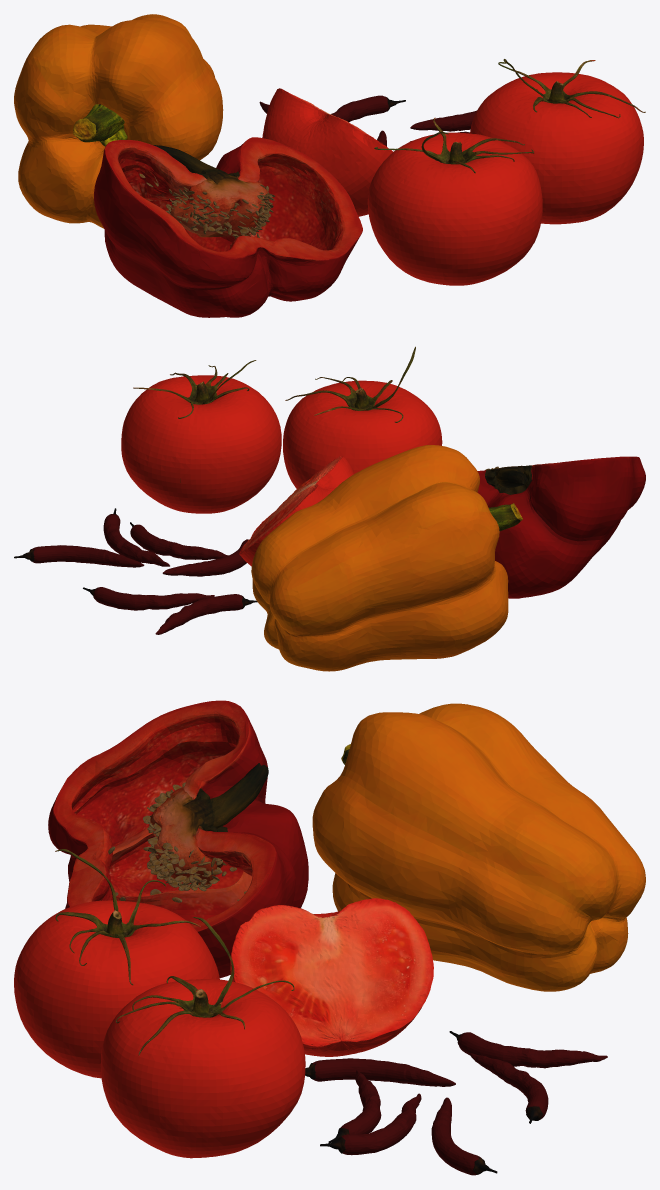
Rendered from vegetables.glb.
The picture shows the model from 3 angles, top to bottom: view 1: azimuth 30°, elevation 25°; view 2: azimuth 150°, elevation 25°; view 3: azimuth 270°, elevation 25°; orthographic projection. The views are drawn at different scales.
Visible parts, largest first — view 1: mesh_0_ROOT__Vegetables__Tomato_Layer0, mesh_3_ROOT__Vegetables__Bell_pepper_Layer0_112_27_16_ds, mesh_4_ROOT__Vegetables__Bell_pepper_Layer0_148_91_2_ds, mesh_2_ROOT__Vegetables__Bell_pepper_Layer0_90_71_45_ds, mesh_1_ROOT__Vegetables__Pepper_Layer0; view 2: mesh_4_ROOT__Vegetables__Bell_pepper_Layer0_148_91_2_ds, mesh_0_ROOT__Vegetables__Tomato_Layer0, mesh_3_ROOT__Vegetables__Bell_pepper_Layer0_112_27_16_ds, mesh_1_ROOT__Vegetables__Pepper_Layer0; view 3: mesh_0_ROOT__Vegetables__Tomato_Layer0, mesh_4_ROOT__Vegetables__Bell_pepper_Layer0_148_91_2_ds, mesh_3_ROOT__Vegetables__Bell_pepper_Layer0_112_27_16_ds, mesh_1_ROOT__Vegetables__Pepper_Layer0, mesh_2_ROOT__Vegetables__Bell_pepper_Layer0_90_71_45_ds.
Part boxes in pixels (x1,y1,x2,y2): mesh_0_ROOT__Vegetables__Tomato_Layer0: [262, 59, 645, 285]; mesh_3_ROOT__Vegetables__Bell_pepper_Layer0_112_27_16_ds: [94, 137, 362, 317]; mesh_4_ROOT__Vegetables__Bell_pepper_Layer0_148_91_2_ds: [14, 14, 223, 228]; mesh_2_ROOT__Vegetables__Bell_pepper_Layer0_90_71_45_ds: [139, 173, 274, 239]; mesh_1_ROOT__Vegetables__Pepper_Layer0: [259, 95, 476, 146]; mesh_4_ROOT__Vegetables__Bell_pepper_Layer0_148_91_2_ds: [251, 445, 522, 671]; mesh_0_ROOT__Vegetables__Tomato_Layer0: [121, 346, 442, 566]; mesh_3_ROOT__Vegetables__Bell_pepper_Layer0_112_27_16_ds: [477, 456, 645, 598]; mesh_1_ROOT__Vegetables__Pepper_Layer0: [14, 508, 257, 634]; mesh_0_ROOT__Vegetables__Tomato_Layer0: [14, 849, 433, 1158]; mesh_4_ROOT__Vegetables__Bell_pepper_Layer0_148_91_2_ds: [312, 703, 645, 991]; mesh_3_ROOT__Vegetables__Bell_pepper_Layer0_112_27_16_ds: [48, 700, 308, 978]; mesh_1_ROOT__Vegetables__Pepper_Layer0: [305, 1031, 607, 1175]; mesh_2_ROOT__Vegetables__Bell_pepper_Layer0_90_71_45_ds: [108, 782, 246, 902].
Bounding box in the file's own units: 248 × 88.96 × 217.
Materials: 5 (5 with a texture image).
